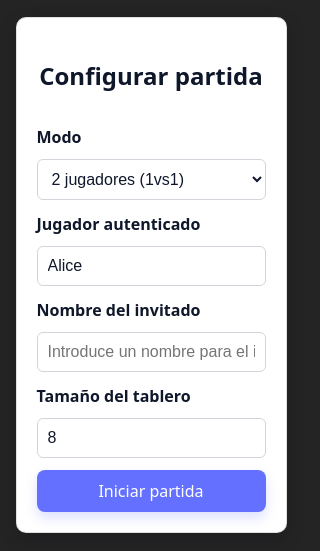
Test: StartGameForm › si cambias a 1vsbot, muestra dificultad y oculta jugador 2
The width and height of the screenshot is (320, 551).
Select "1 jugador (1vsbot)" in the dropdown labelled "Modo" at (151, 180), box [36,159,266,200]
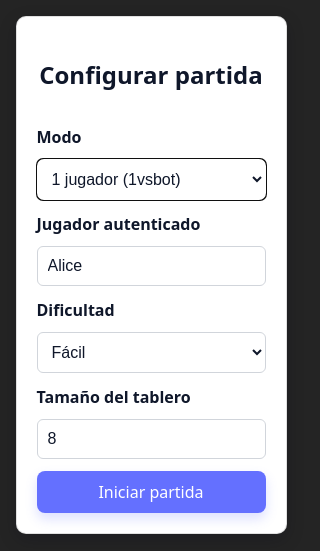
Result: the dropdown labelled "Dificultad" shows "Fácil" at [36,332,266,373]
